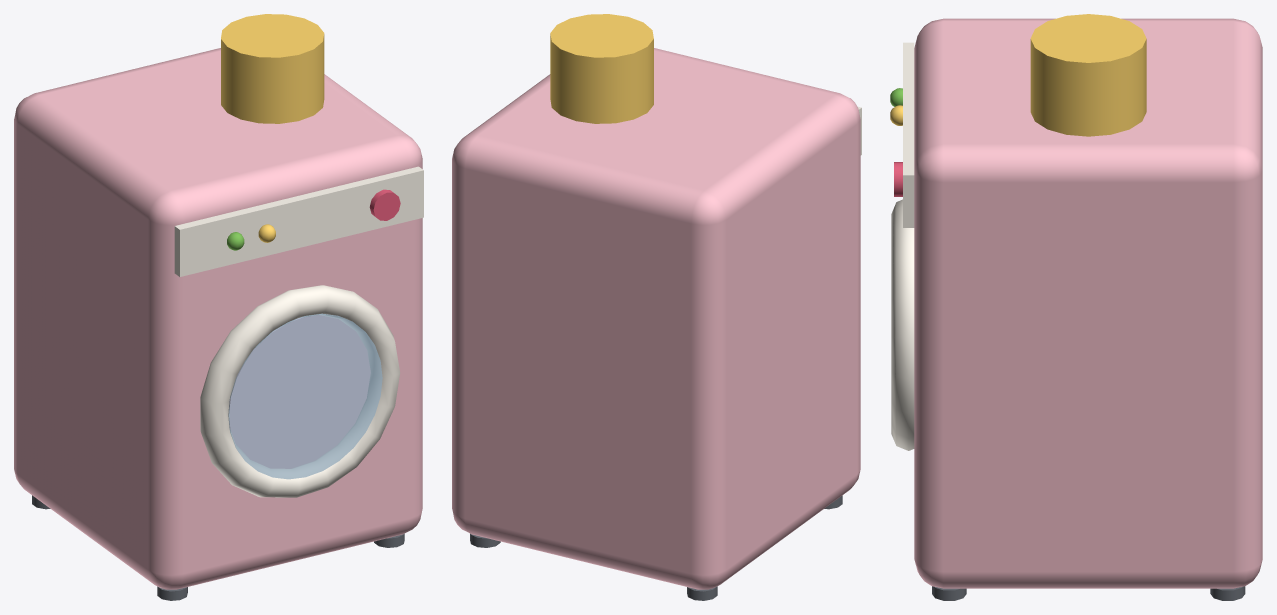
Rendered from washer-retro.glb.
3 views of the same model, side by side, from view 1: azimuth 30°, elevation 25°; view 2: azimuth 150°, elevation 25°; view 3: azimuth 270°, elevation 25° (orthographic). The views are drawn at different scales.
Size of the model in its own units: 0.6 by 1 by 0.6417.
